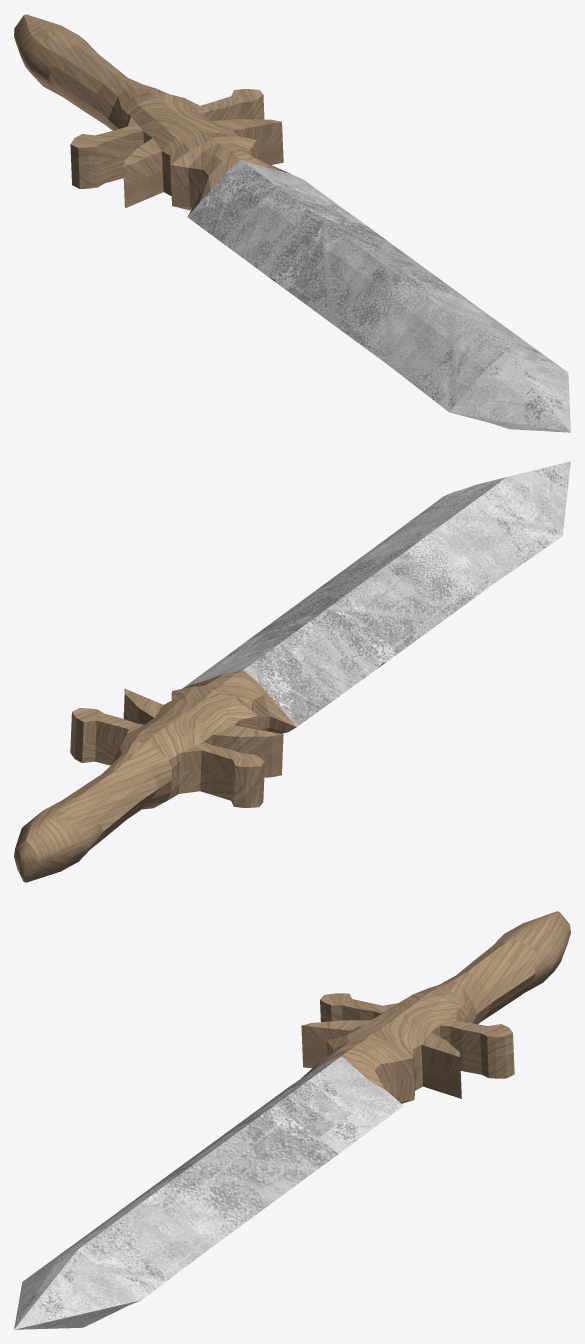
Rendered from espada3.obj.
The picture shows the model from 3 angles, top to bottom: view 1: azimuth 30°, elevation 25°; view 2: azimuth 150°, elevation 25°; view 3: azimuth 330°, elevation 25°; orthographic projection.
Parts seen in each view (by area): view 1: espada3; view 2: espada3; view 3: espada3.
Part boxes in pixels (left/top/right/bottom): espada3: left=14, top=14, right=570, bottom=432; espada3: left=14, top=461, right=570, bottom=882; espada3: left=14, top=911, right=570, bottom=1329.
Bounding box in the file's own units: 38.6 × 15.13 × 193.
